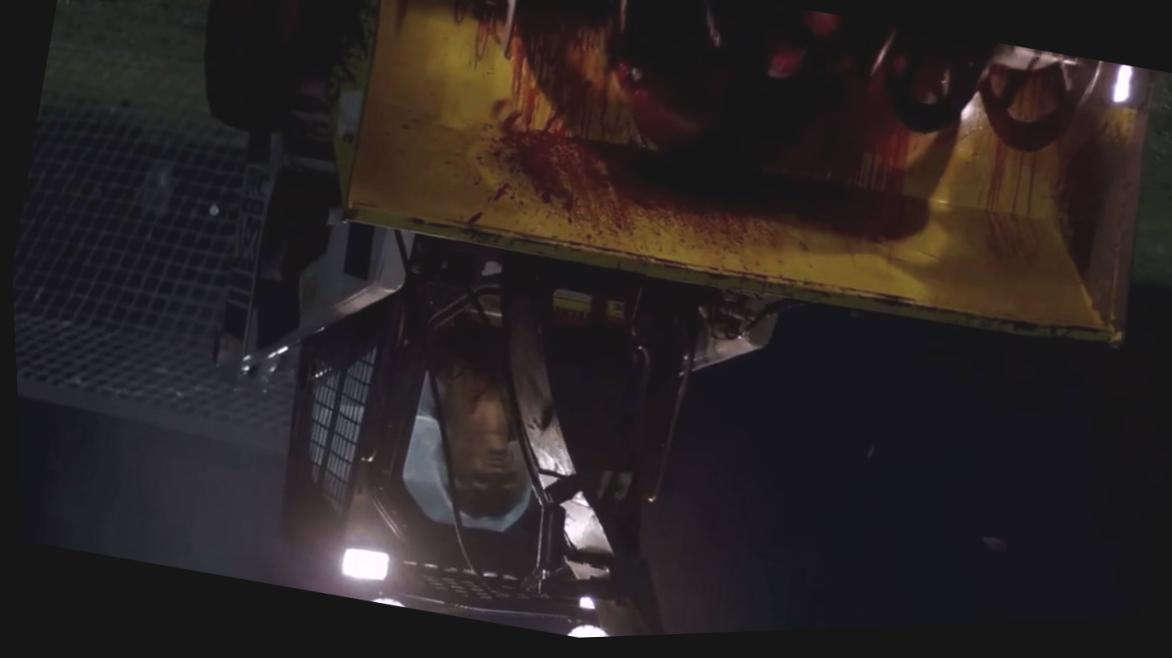Fire: (444, 23, 1042, 291)
